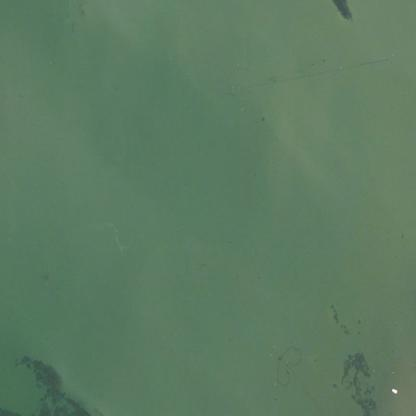ship: (383, 381, 402, 397)
